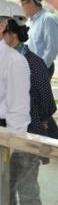hard-hat: (6, 0, 26, 26)
